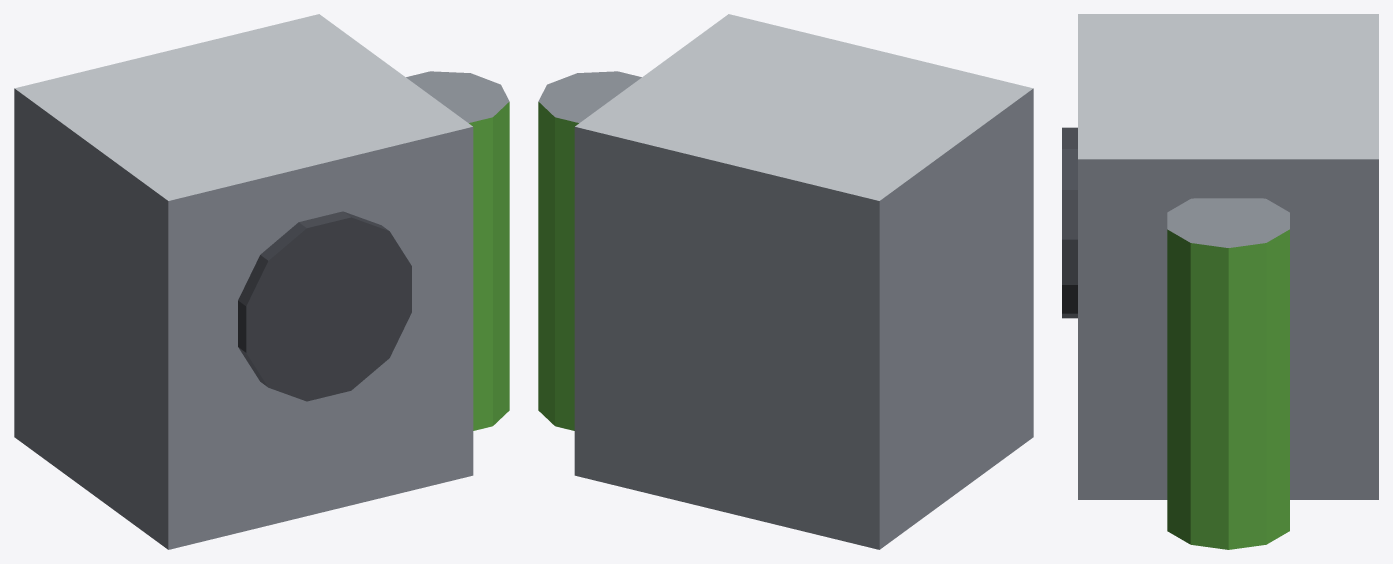
Rendered from item_life_support_unit.glb.
3 views of the same model, side by side, from view 1: azimuth 30°, elevation 25°; view 2: azimuth 150°, elevation 25°; view 3: azimuth 270°, elevation 25° (orthographic). The views are drawn at different scales.
Parts seen in each view (by area): view 1: item_life_support_unit; view 2: item_life_support_unit; view 3: item_life_support_unit.
Part boxes in pixels (<box>): item_life_support_unit: <box>14,14,509,549</box>; item_life_support_unit: <box>538,14,1033,549</box>; item_life_support_unit: <box>1062,14,1378,549</box>.
Size of the model in its own units: 0.86 by 0.7 by 0.59.
